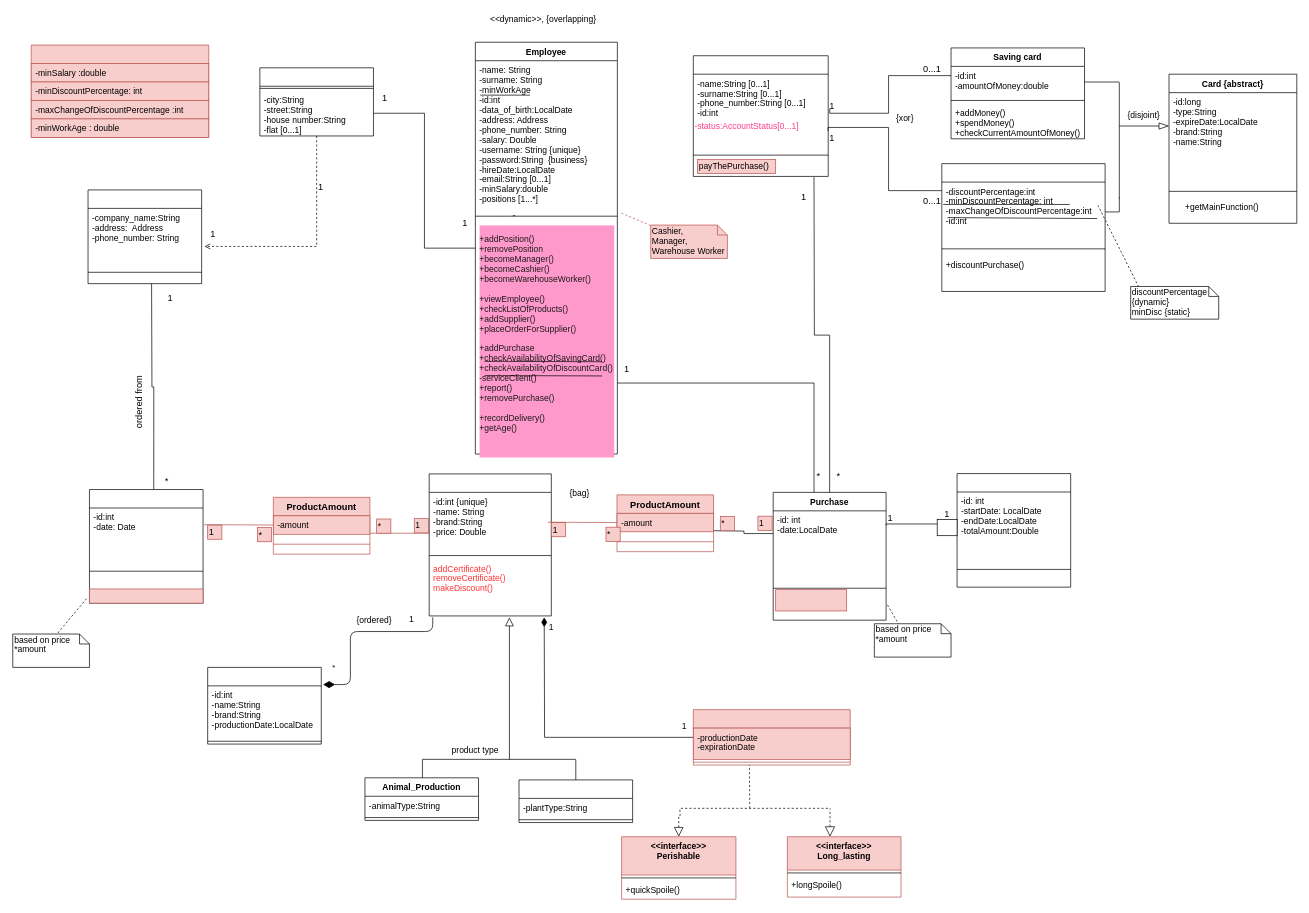
Some shapes in this 1309 by 913 pixel diagram are drawn without their labels. The box of each missing label's shape, as (x1, y1, x2, y2) in pixels:
+getTotalSum(): (89, 588, 203, 603)
+getTotalSum() +getReceipt(): (775, 589, 847, 611)
Address: (259, 67, 373, 136)
Certificate: (207, 667, 321, 744)
Class attribute: (31, 44, 209, 137)
Client: (693, 55, 828, 176)
Discount card: (941, 163, 1105, 291)
id: (936, 519, 957, 536)
Order: (89, 489, 203, 603)
Plant_Production: (518, 779, 633, 823)
Product: (428, 473, 551, 616)
Product_Lasting_Type: (693, 709, 850, 765)
Sales Report: (956, 473, 1071, 587)
Supplier: (87, 189, 202, 284)
